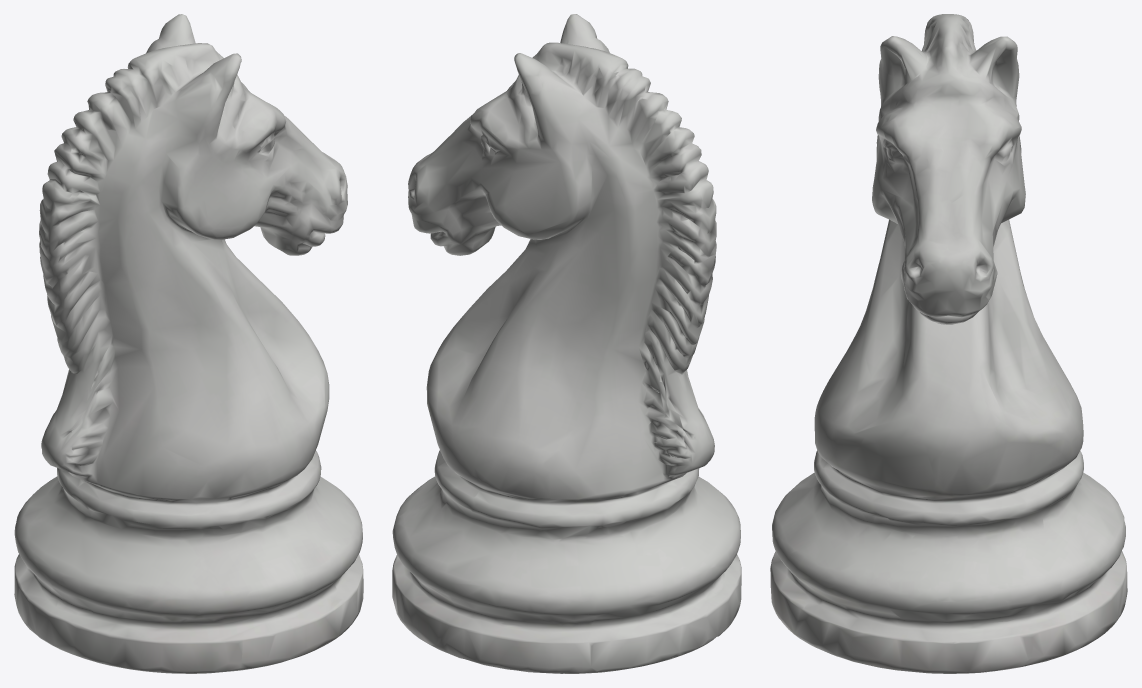
The model's file is knight_low.glb.
3 renders of one model, left to right at view 1: azimuth 30°, elevation 25°; view 2: azimuth 150°, elevation 25°; view 3: azimuth 270°, elevation 25°, orthographic.
Parts seen in each view (by area): view 1: world; view 2: world; view 3: world.
Part boxes in pixels (x1,y1,x2,y2): world: (14,14,363,673); world: (392,14,741,673); world: (770,14,1127,673).
Size of the model in its own units: 0.5635 by 1 by 0.563.
Materials: 1 (1 with a texture image).
